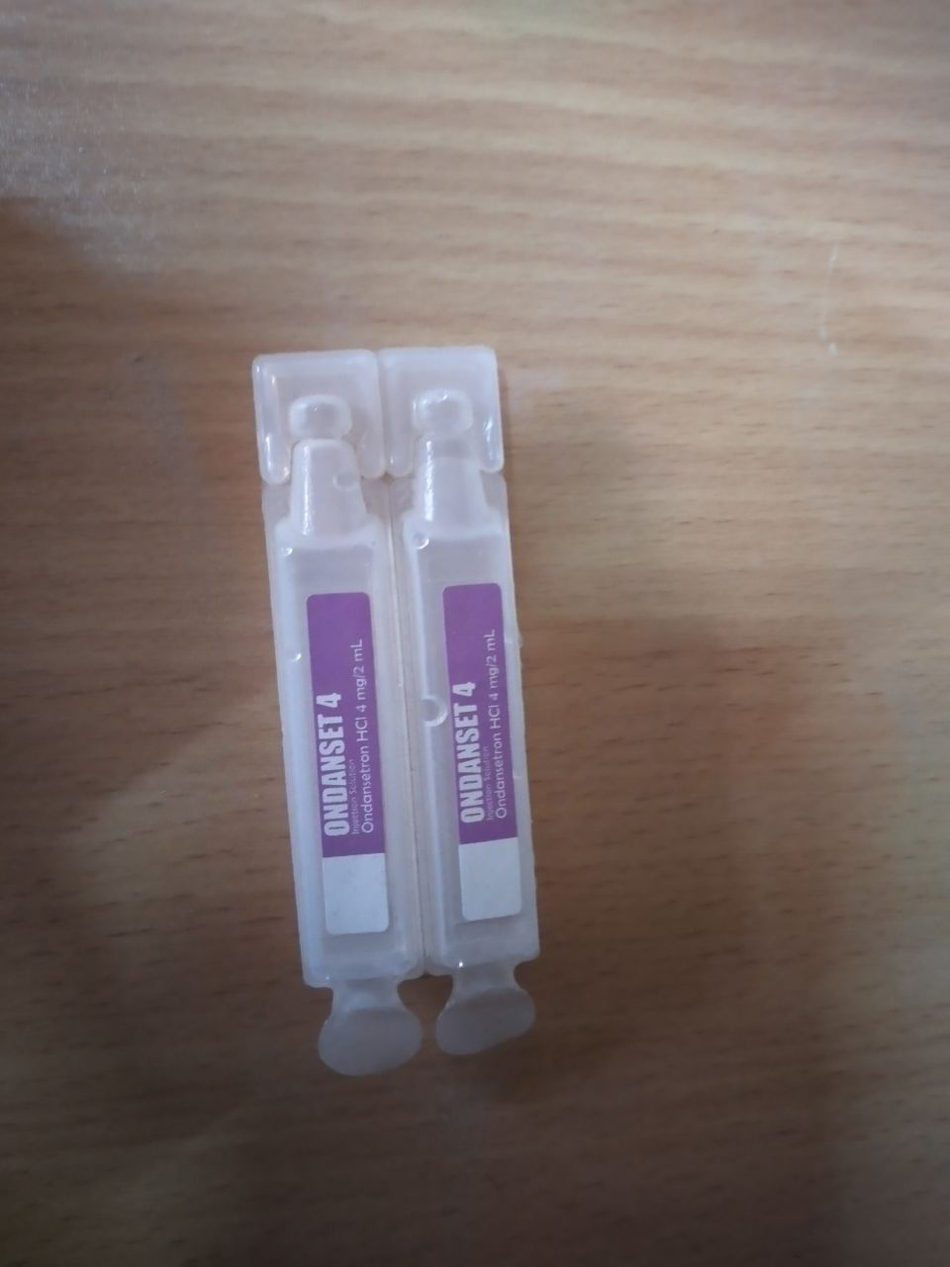Medicine: (231, 340, 544, 1076), (373, 330, 581, 1069), (247, 333, 442, 1076)
